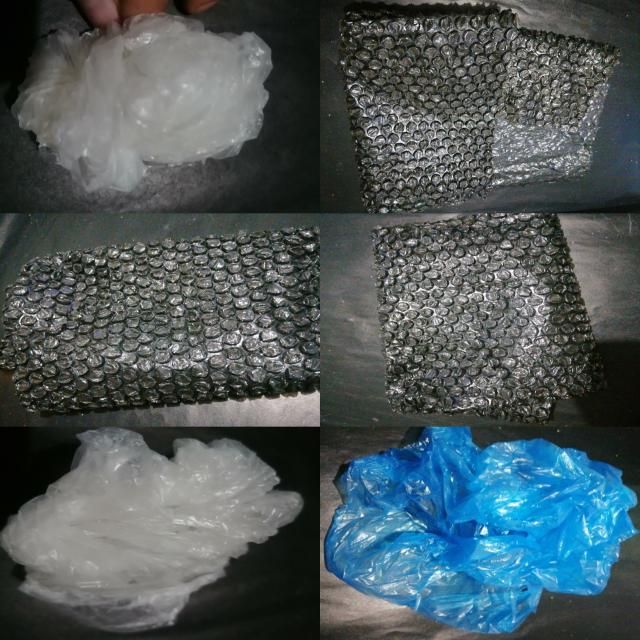Single-layer Plastic: (325, 428, 637, 633), (1, 428, 303, 631), (0, 226, 320, 412), (340, 6, 619, 211), (372, 214, 605, 422), (13, 14, 271, 192)
